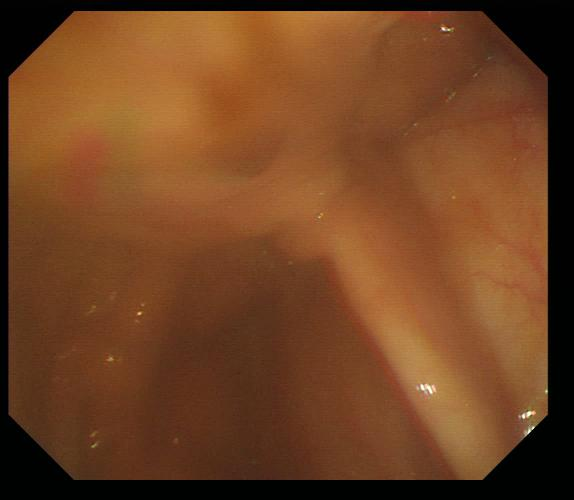polyp: (279, 211, 328, 261)
